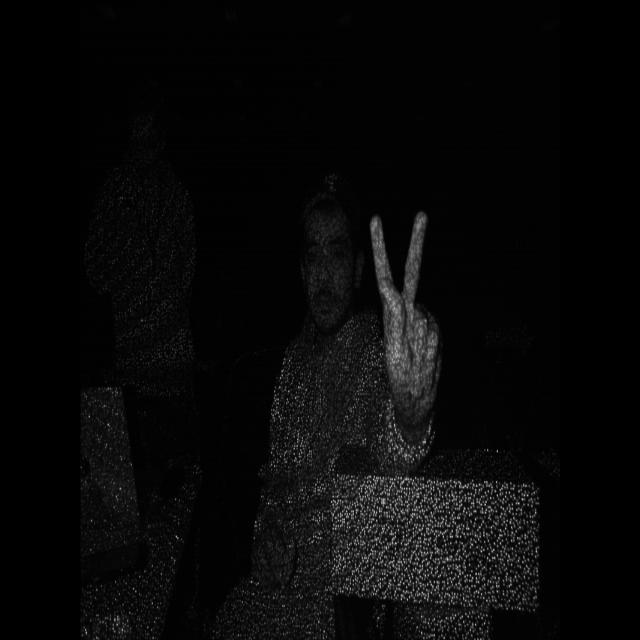V: (360, 187, 458, 457)
